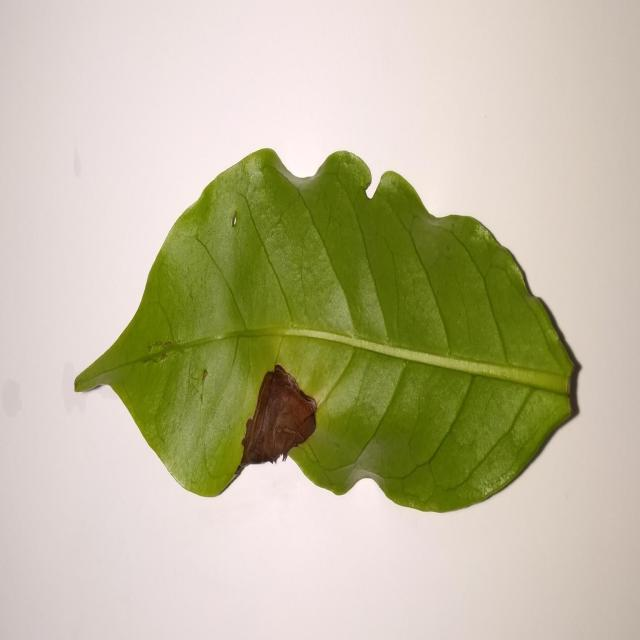Enfermedad-Antracnosis: (72, 149, 581, 516)
